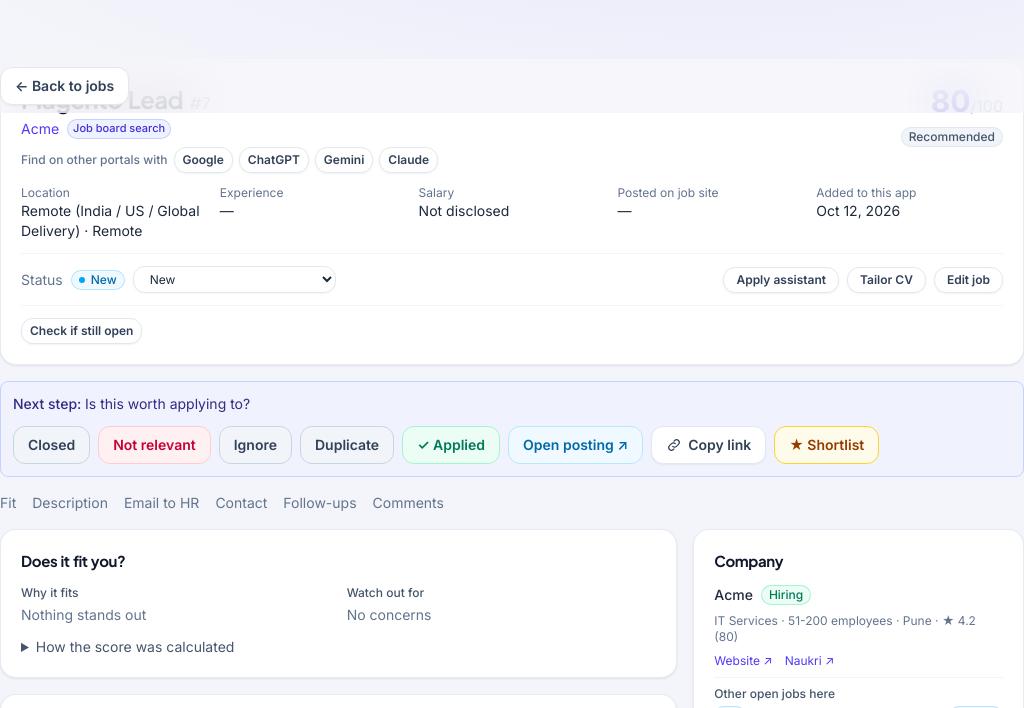
Test: job page › Tailor CV opens the CV tailor on the job page, not in the edit form
The image size is (1024, 708).
Expected: the field labelled "Your CV" is not shown
What coordinates should you click on to do the following:
click the button "Tailor CV"
I would click on:
 (886, 280)
Its box is [847, 266, 926, 292].
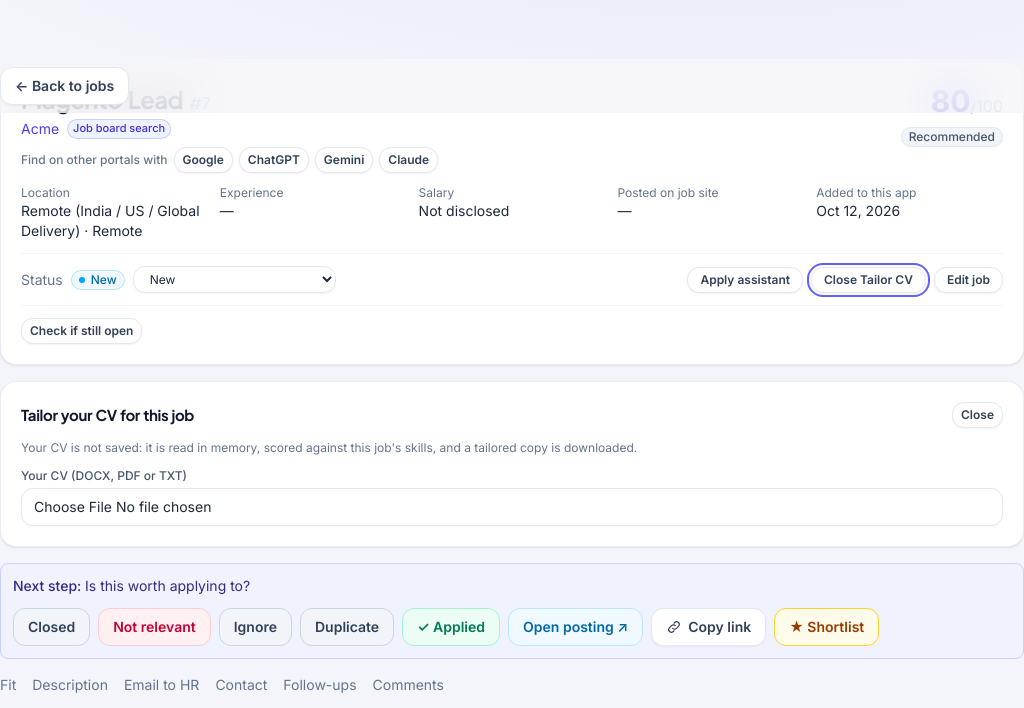
Now the heading "Tailor your CV for this job" is shown, box [21, 404, 194, 426]
Now the file field labelled "Your CV (DOCX, PDF or TXT)" is shown, box [21, 488, 1003, 526]
What coordinates should you click on to do the following:
click the button "Edit job"
I would click on:
 (968, 280)
Its box is [934, 266, 1003, 292].
(page scrolled)
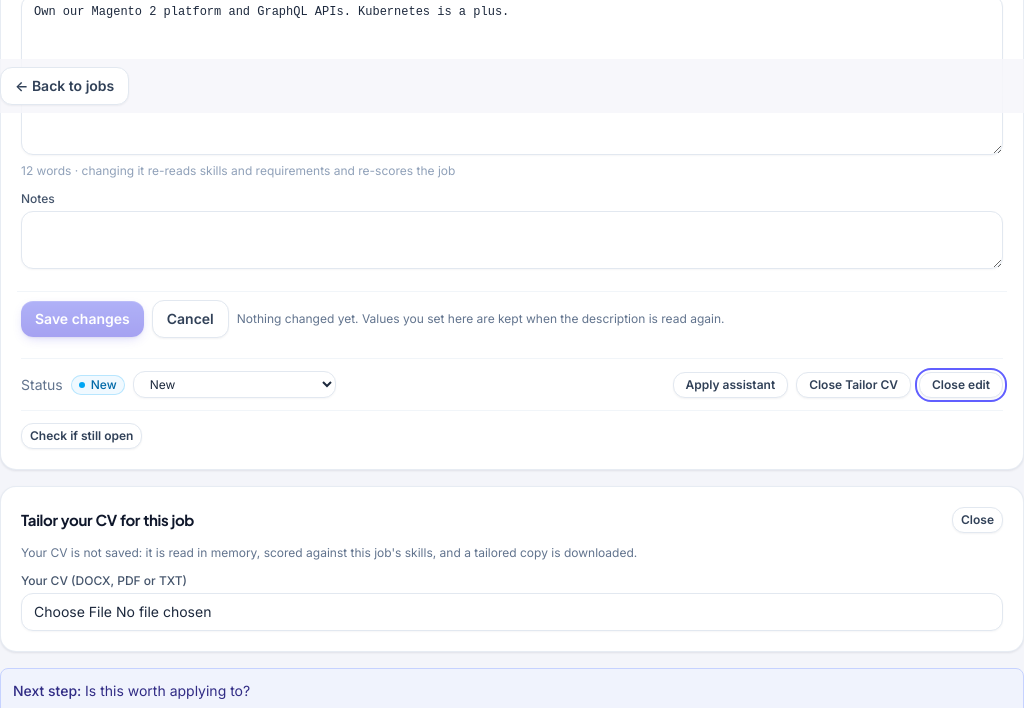
Now the number of file fields labelled "Your CV (DOCX, PDF or TXT)" is 1, box [21, 593, 1003, 631]
What coordinates should you click on to do the following:
click the button "Close Tailor CV"
I would click on:
 (854, 384)
Its box is [796, 372, 911, 398].
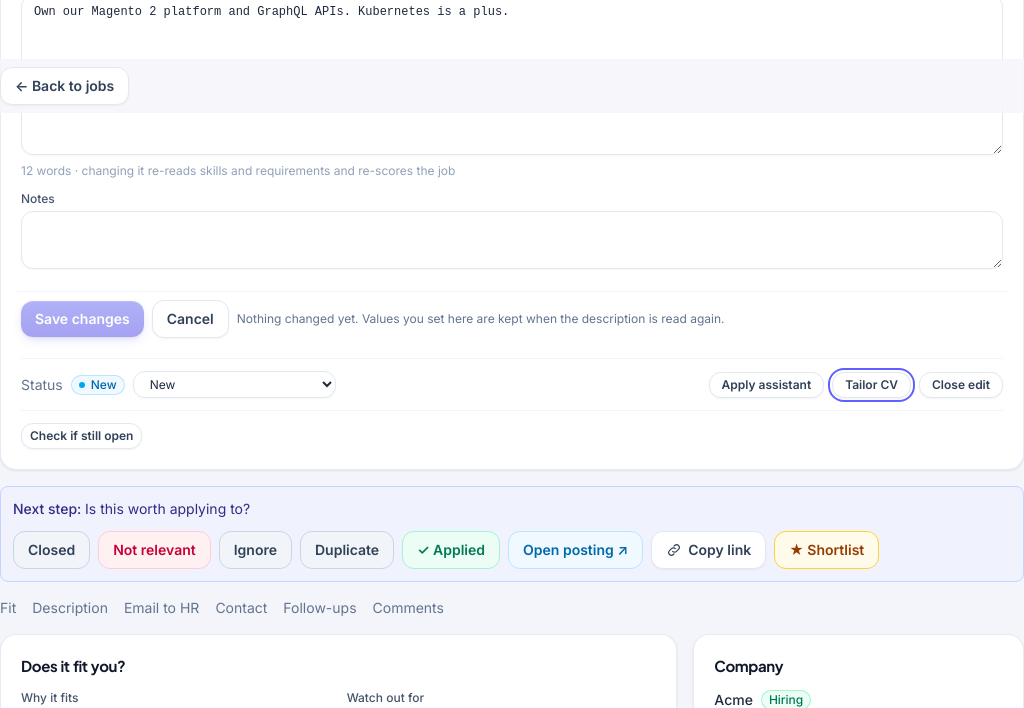
Now the heading labelled "your CV" is gone
